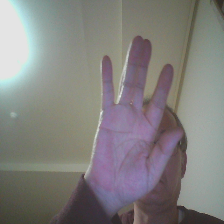hand: (85, 33, 187, 205)
